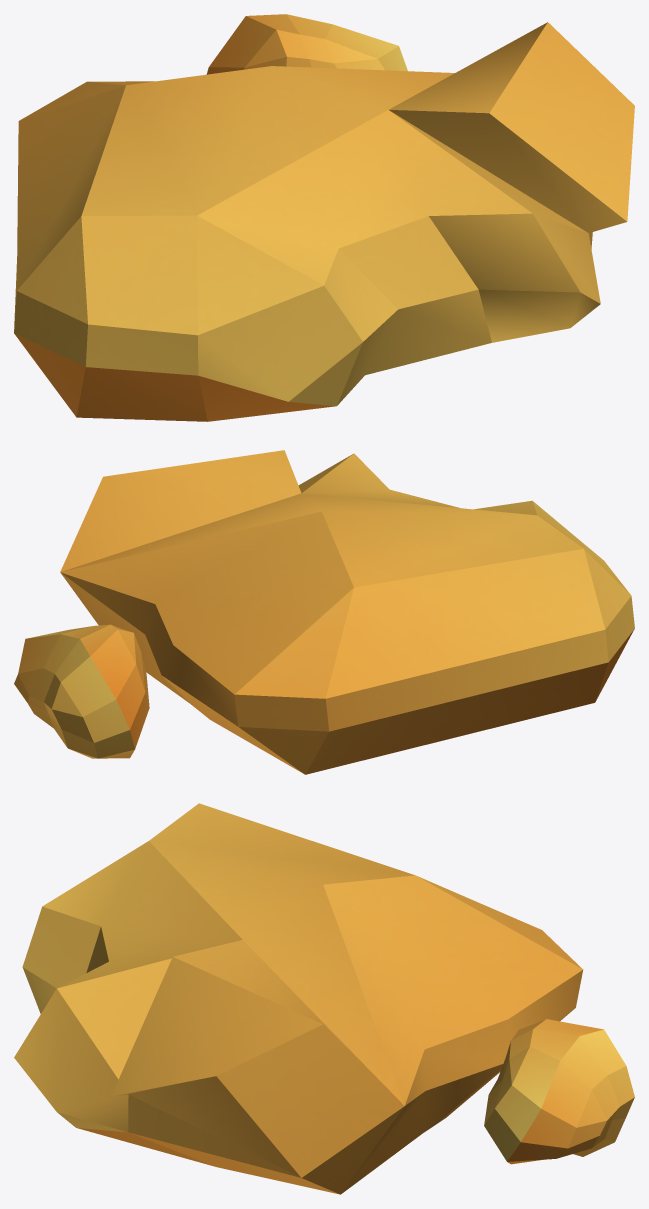
Rendered from M_rock.fbx.
The picture shows the model from 3 angles, top to bottom: view 1: azimuth 30°, elevation 25°; view 2: azimuth 150°, elevation 25°; view 3: azimuth 270°, elevation 25°; orthographic projection. The views are drawn at different scales.
Visible parts, largest first — view 1: rock; view 2: rock; view 3: rock.
Boxes of the visible parts, x1=… form: rock: x1=14, y1=14, x2=634, y2=421; rock: x1=14, y1=450, x2=634, y2=774; rock: x1=14, y1=803, x2=634, y2=1194.
Size of the model in its own units: 161 by 60.34 by 157.
